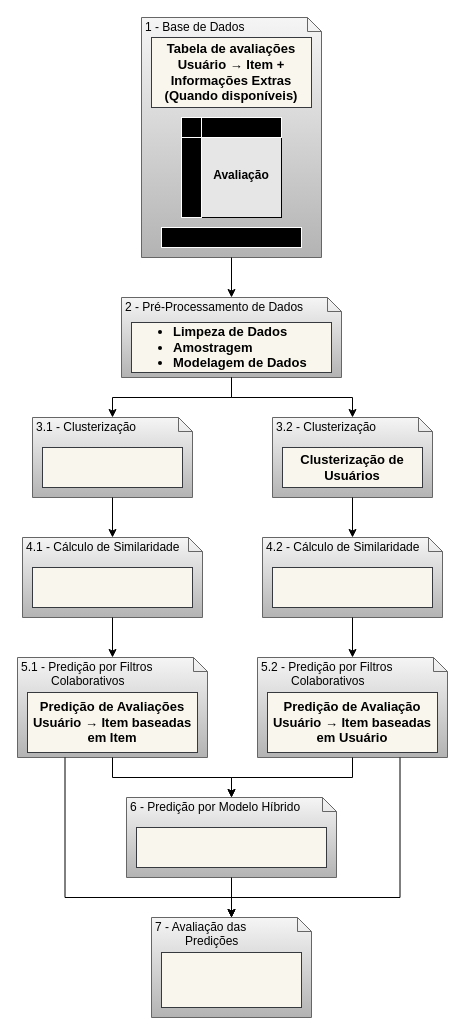
Some shapes in this 465 by 1035 pixel diagram are drawn without their labels. Each missing label, with the centre of its shape:
Clusterização de Itens: (x=112, y=467)
Informações Extras: (x=231, y=237)
Item: (x=241, y=127)
Modelo Híbrido de Combinação Linear: (x=231, y=847)
RMSE MSE MAE: (x=231, y=980)
Similaridade entre Itens: (x=112, y=587)
Similaridade entre Usuários: (x=352, y=587)
Usuário: (x=191, y=177)
